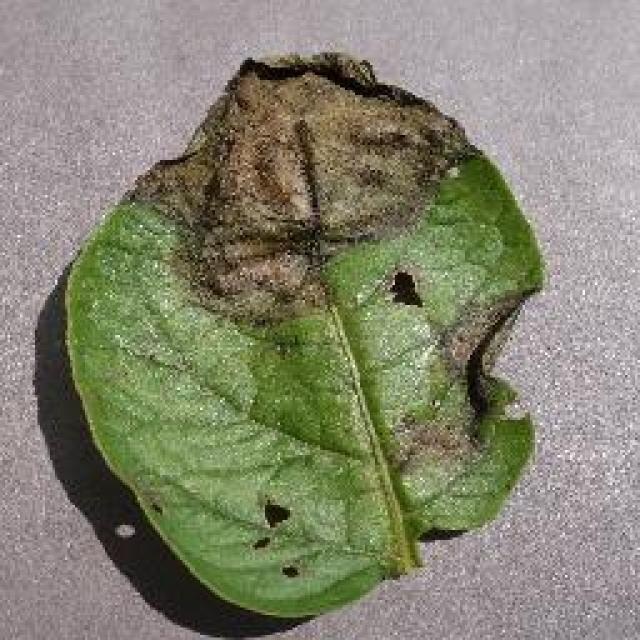green waste: (31, 24, 572, 636)
